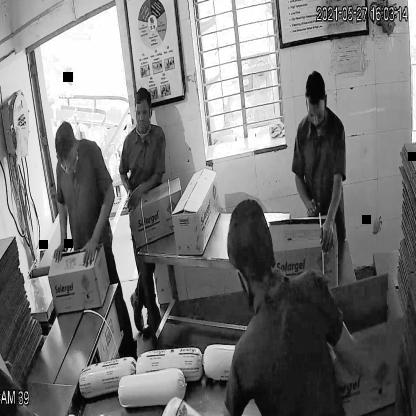no_goggles: (132, 103, 154, 126), (305, 103, 326, 125)
